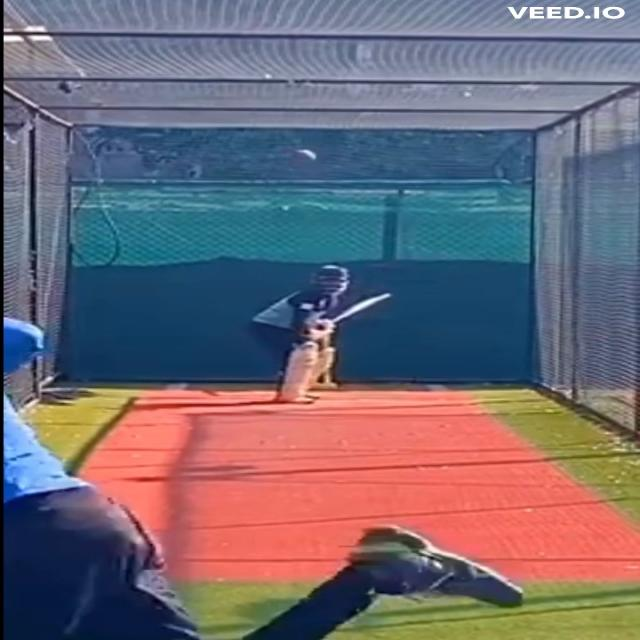ball: (287, 148, 320, 168)
